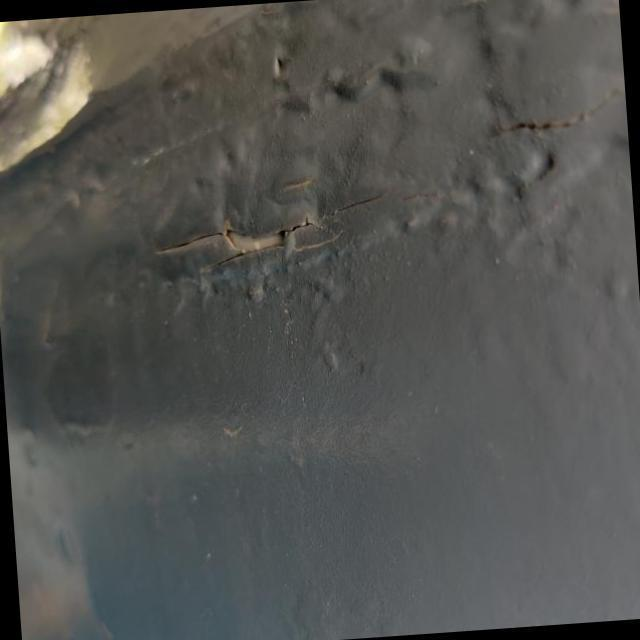Rupture: (138, 184, 399, 293)
